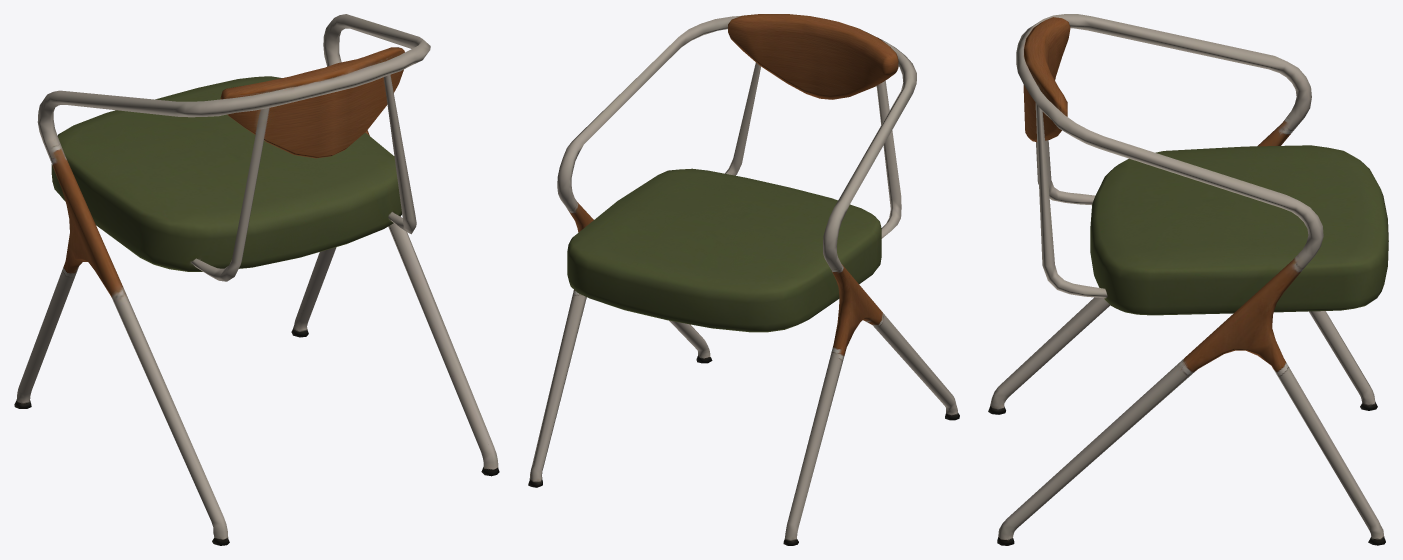
The model's file is chair.glb.
The picture shows the model from 3 angles, left to right: view 1: azimuth 30°, elevation 25°; view 2: azimuth 150°, elevation 25°; view 3: azimuth 270°, elevation 25°; orthographic projection. The views are drawn at different scales.
Visible parts, largest first — view 1: tripo_node_62371384-842b-473c-8bf0-44808d51daca; view 2: tripo_node_62371384-842b-473c-8bf0-44808d51daca; view 3: tripo_node_62371384-842b-473c-8bf0-44808d51daca.
Boxes of the visible parts, bbox=[...] form: tripo_node_62371384-842b-473c-8bf0-44808d51daca: bbox=[14, 14, 499, 545]; tripo_node_62371384-842b-473c-8bf0-44808d51daca: bbox=[528, 14, 959, 545]; tripo_node_62371384-842b-473c-8bf0-44808d51daca: bbox=[988, 14, 1388, 545].
Bounding box in the file's own units: 0.752 × 0.998 × 0.8652.
1 material, 1 textured.
